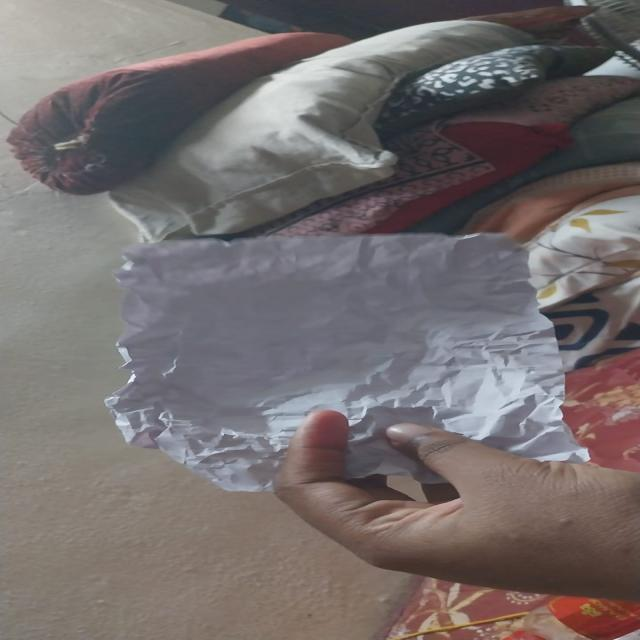Paper - Recyclable: (104, 230, 591, 492)
